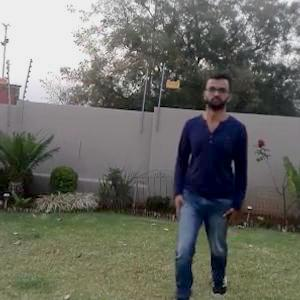follow: (175, 81, 243, 296)
